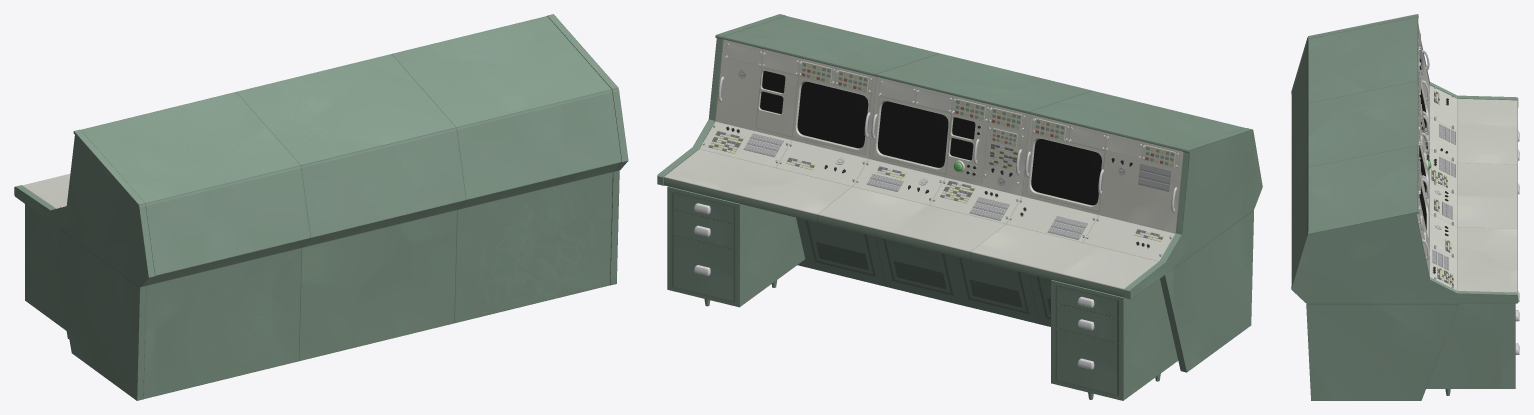
The model's file is mission_control_console.glb.
The picture shows the model from 3 angles, left to right: view 1: azimuth 30°, elevation 25°; view 2: azimuth 150°, elevation 25°; view 3: azimuth 270°, elevation 25°; orthographic projection. The views are drawn at different scales.
Visible parts, largest first — view 1: polySurface77; view 2: polySurface77; view 3: polySurface77.
Part boxes in pixels (x1=…): polySurface77: x1=14, y1=14, x2=628, y2=400; polySurface77: x1=657, y1=14, x2=1262, y2=400; polySurface77: x1=1291, y1=14, x2=1519, y2=400.
Size of the model in its own units: 2.99 by 1.33 by 1.46.
1 material, 1 textured.
